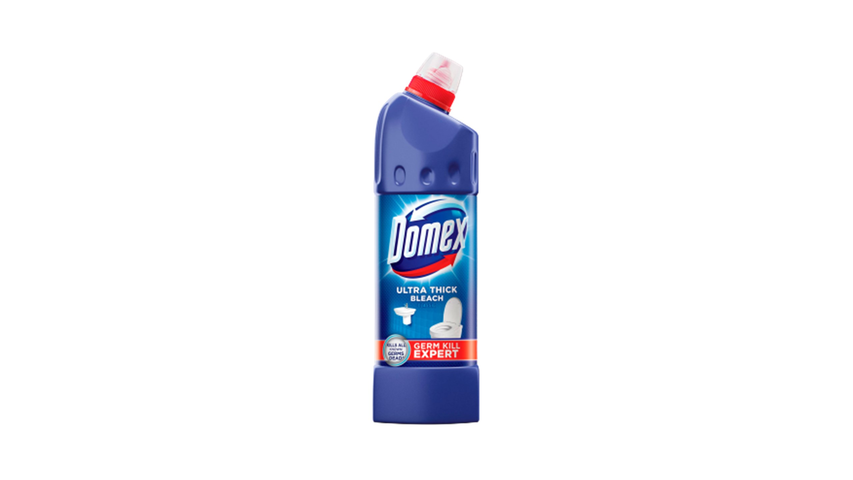toxic_waste: (378, 53, 483, 429)
